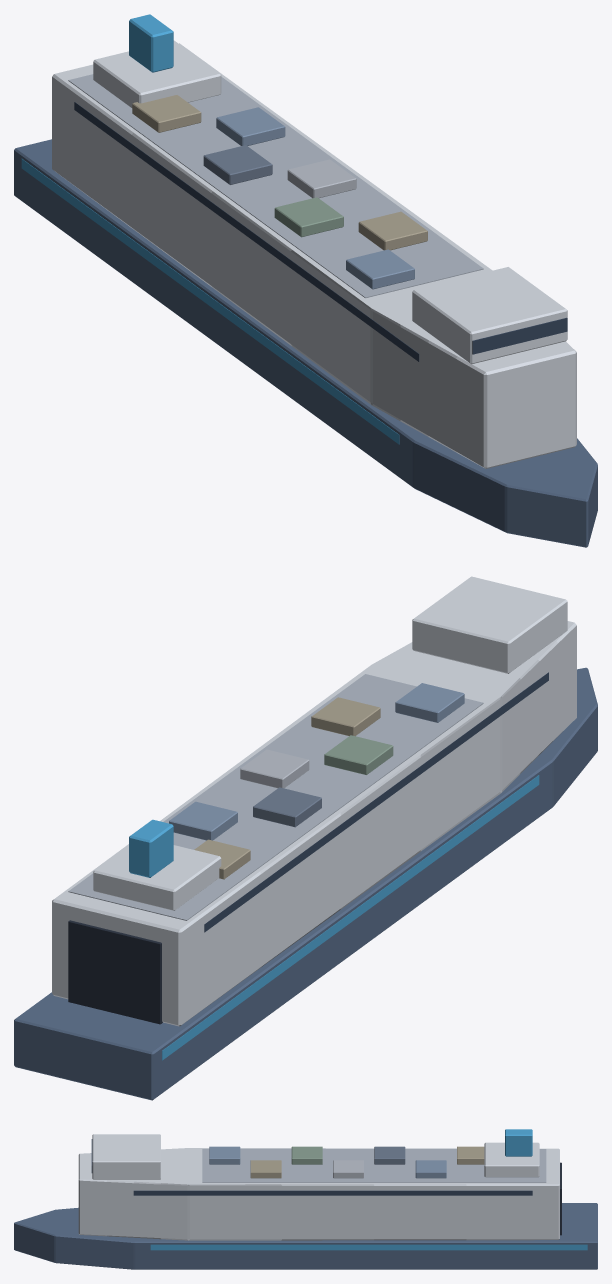
The model's file is roro_ship.glb.
3 views of the same model, one above another, from view 1: azimuth 30°, elevation 25°; view 2: azimuth 150°, elevation 25°; view 3: azimuth 270°, elevation 25° (orthographic). The views are drawn at different scales.
Visible parts, largest first — view 1: roro_ship; view 2: roro_ship; view 3: roro_ship.
Part boxes in pixels (x1,y1,x2,y2): roro_ship: (14, 14, 597, 547); roro_ship: (14, 576, 597, 1100); roro_ship: (14, 1129, 597, 1269).
Size of the model in its own units: 27.32 by 38 by 170.
